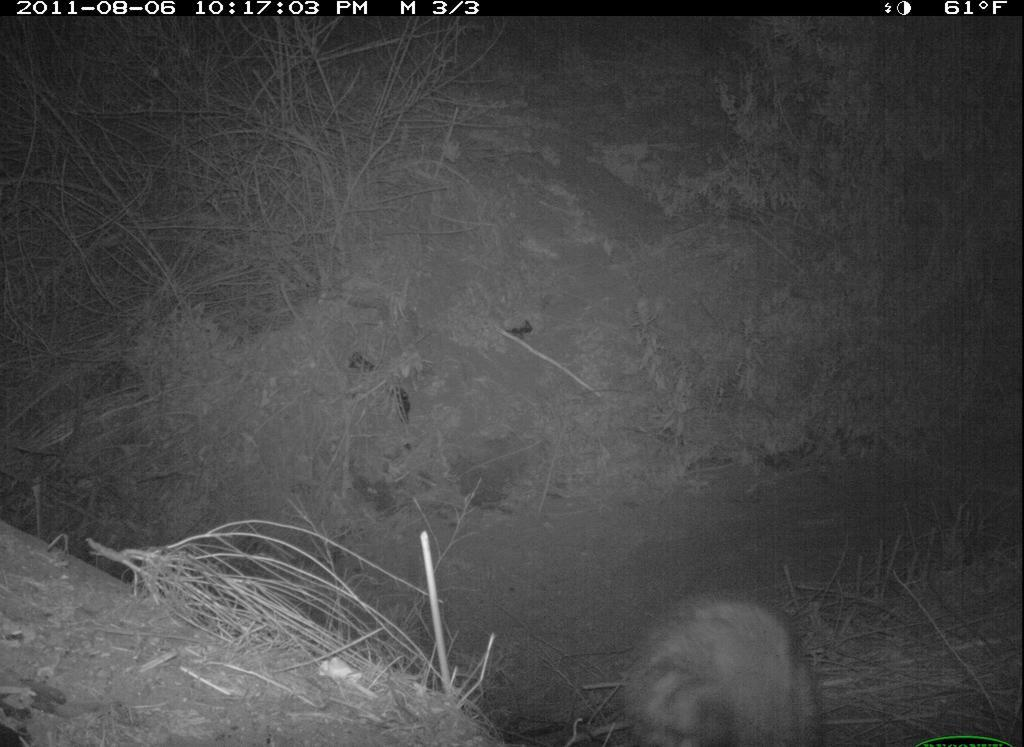raccoon: (605, 577, 850, 747)
